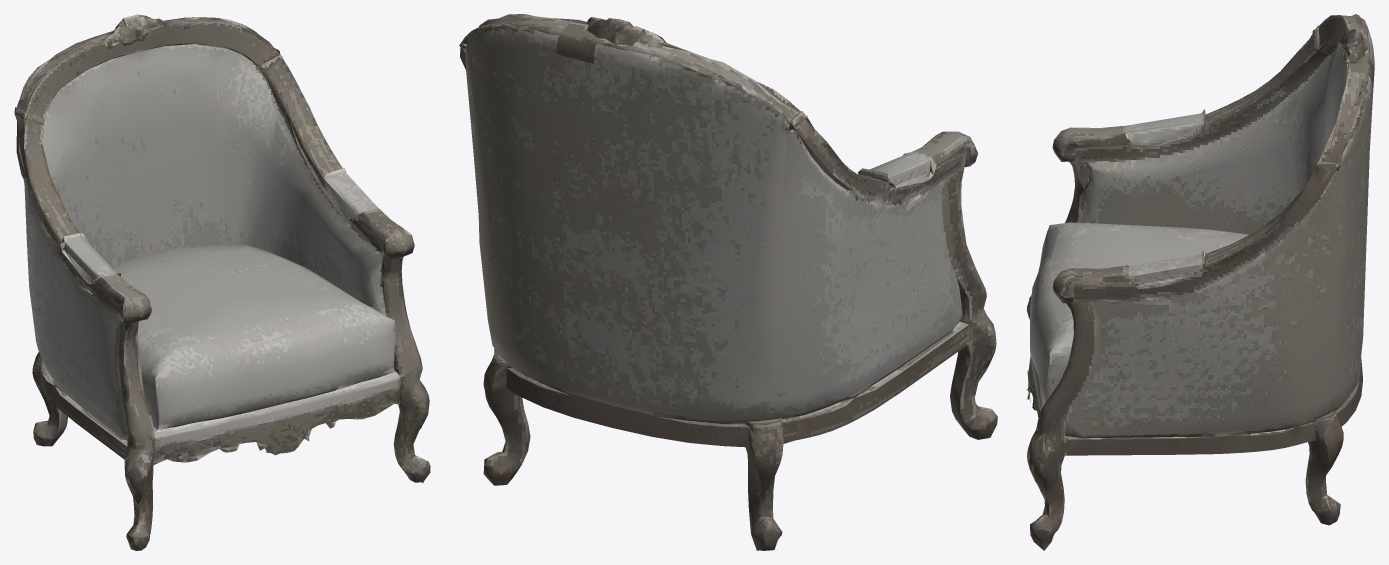
File: gg_armchair.glb
The picture shows the model from 3 angles, left to right: view 1: azimuth 30°, elevation 25°; view 2: azimuth 150°, elevation 25°; view 3: azimuth 270°, elevation 25°; orthographic projection. The views are drawn at different scales.
Parts seen in each view (by area): view 1: mesh; view 2: mesh; view 3: mesh.
Part boxes in pixels (x1,y1,x2,y2): mesh: (14, 14, 430, 550); mesh: (459, 14, 997, 550); mesh: (1026, 14, 1374, 550).
Bounding box in the file's own units: 0.8498 × 1.07 × 0.7677.
Materials: 1 (1 with a texture image).
